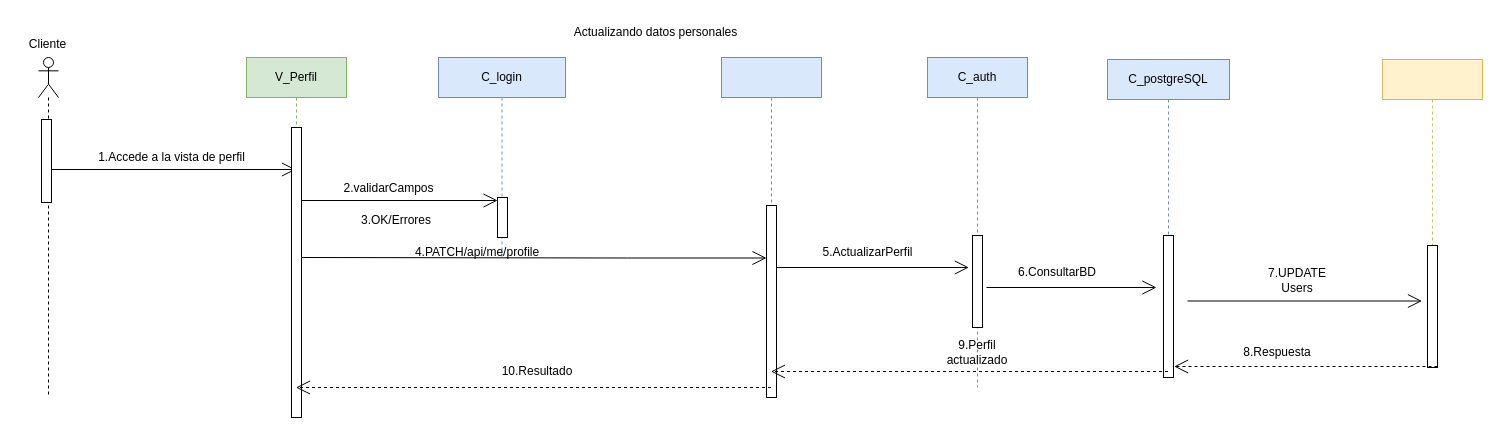
The diagram is 1500 pixels wide and 435 high, and some of its shapes have lost their labels. Each missing label, with the centre of its shape:
"C_api" belongs at [771,217].
"Usuario" belongs at [1432,209].
